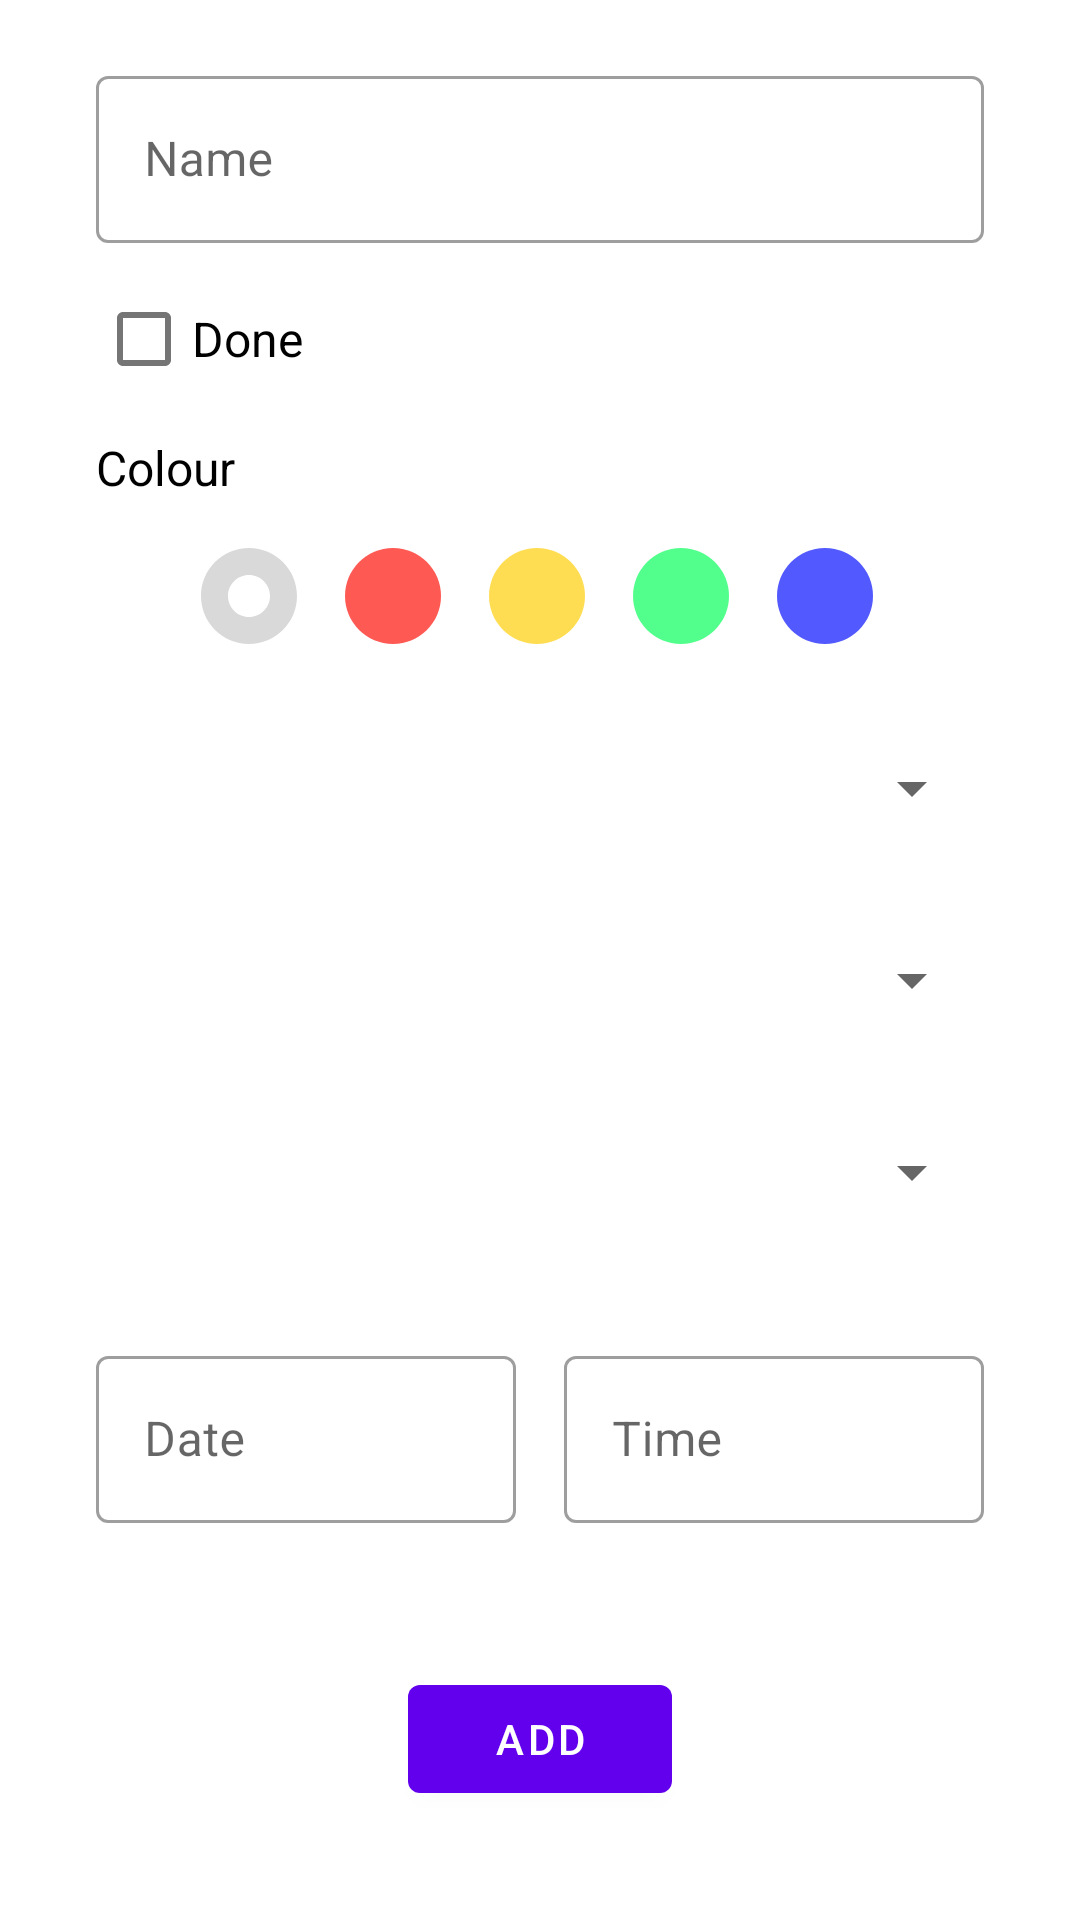

Locate icon controls on the screen. Image size 1080px x 1920px, boxes as (x1, y1, x2, y2).
chooser radio: (201, 548, 297, 644)
